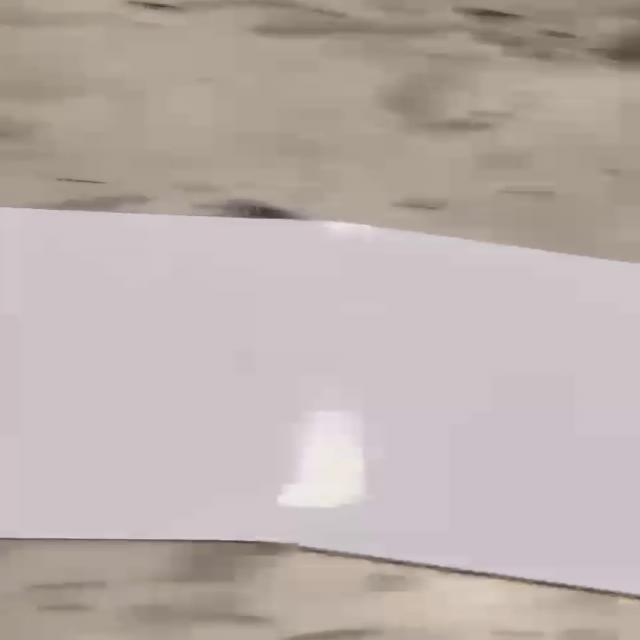road: (3, 208, 639, 591)
